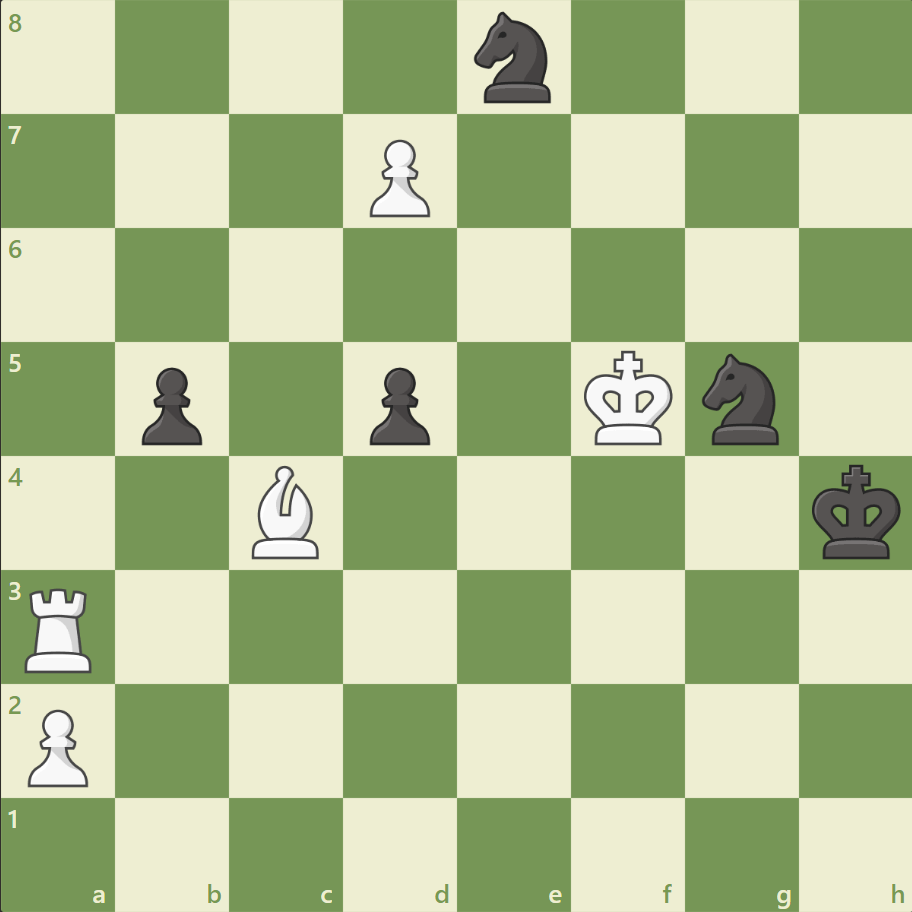B: (244, 460, 328, 563)
K: (579, 344, 679, 452)
P: (20, 700, 95, 791), (361, 132, 435, 223)
R: (19, 579, 102, 676)
k: (806, 458, 906, 566)
n: (465, 7, 562, 110), (692, 348, 789, 450)
p: (133, 359, 208, 450), (361, 359, 435, 450)
